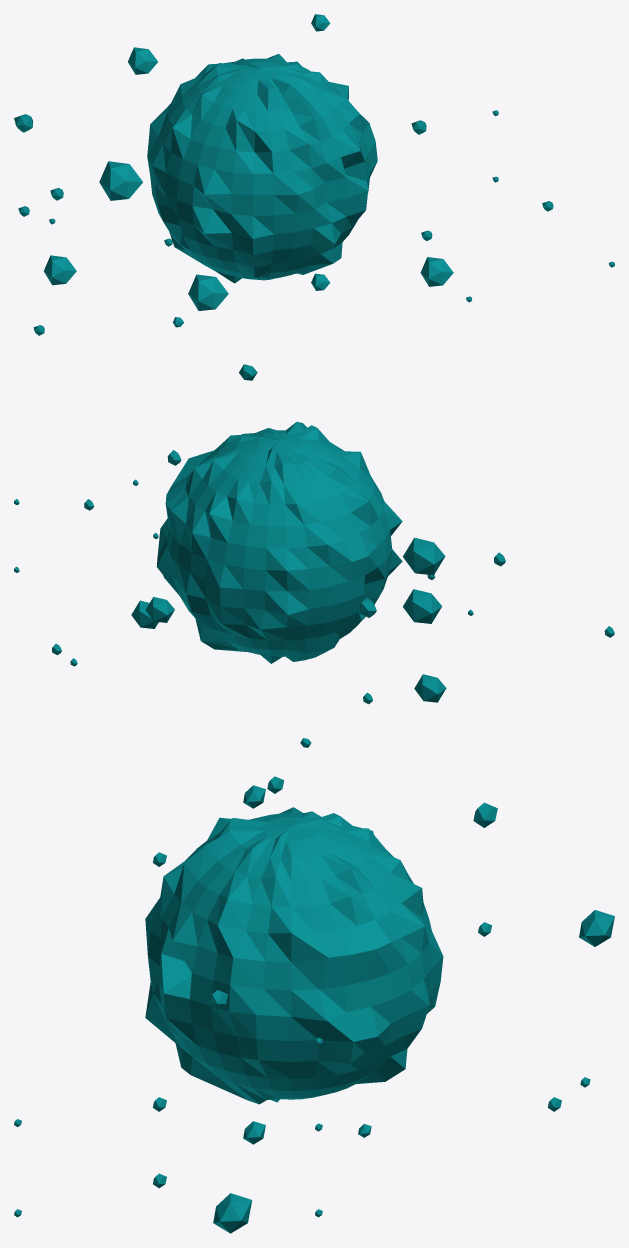
File: ball.obj
3 renders of one model, top to bottom at view 1: azimuth 30°, elevation 25°; view 2: azimuth 150°, elevation 25°; view 3: azimuth 270°, elevation 25°, orthographic. The views are drawn at different scales.
Visible parts, largest first — view 1: 球体, 宝石.25; view 2: 球体, 宝石.25; view 3: 球体, 宝石.25.
Boxes of the visible parts, x1,y1,x2,y2 form: 球体: (147,54,377,283); 宝石.25: (14,14,614,335); 球体: (156,421,402,663); 宝石.25: (14,364,614,747); 球体: (145,807,443,1104); 宝石.25: (14,776,614,1233).
Bounding box in the file's own units: 548 × 316 × 419.
